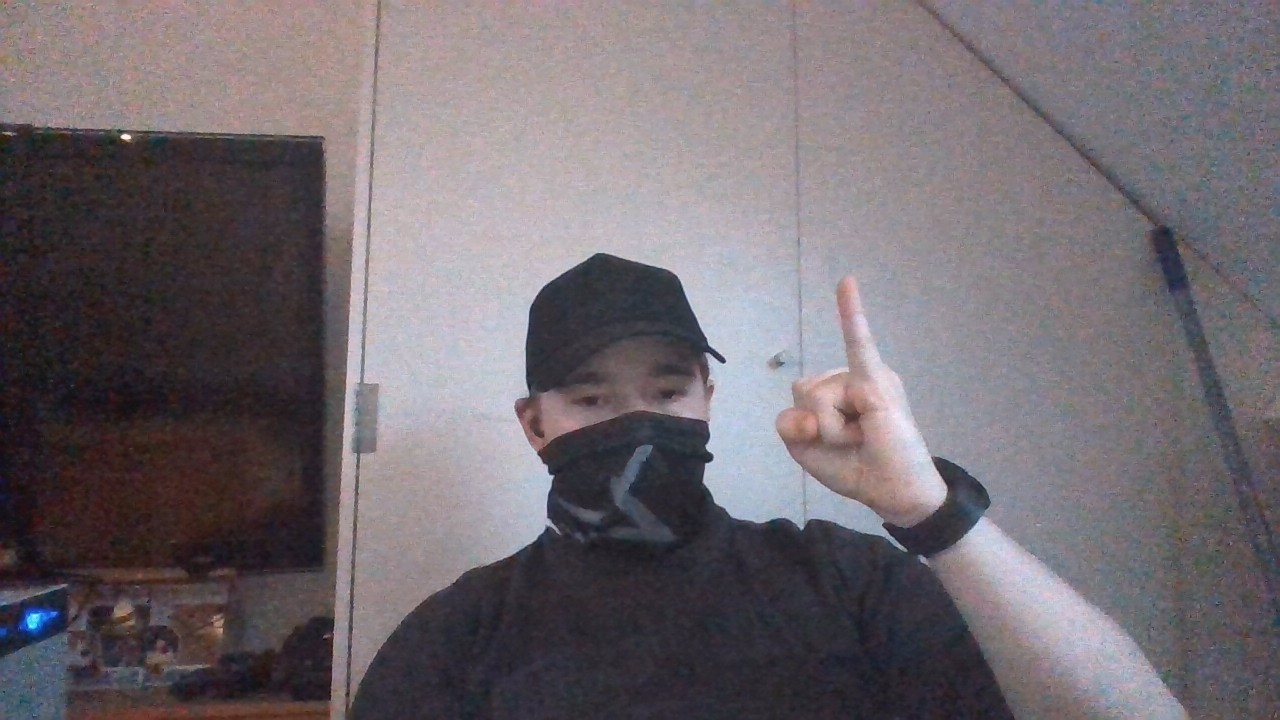I" Sign language: (759, 269, 946, 514)
